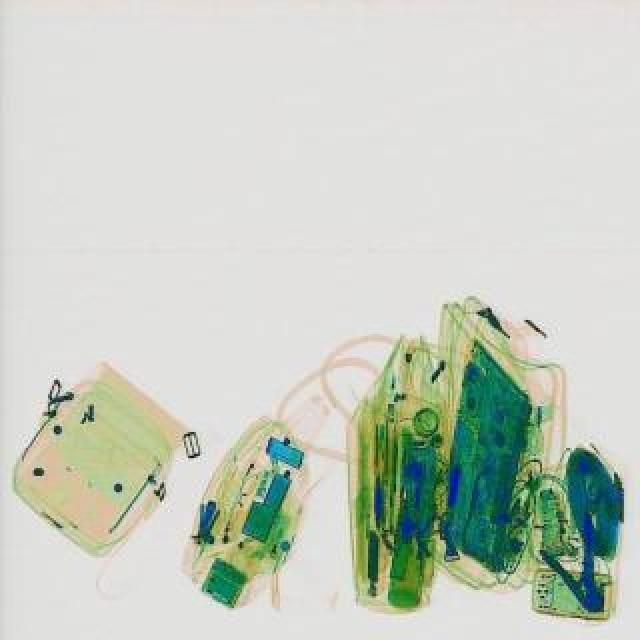wrench: (530, 508, 628, 620)
